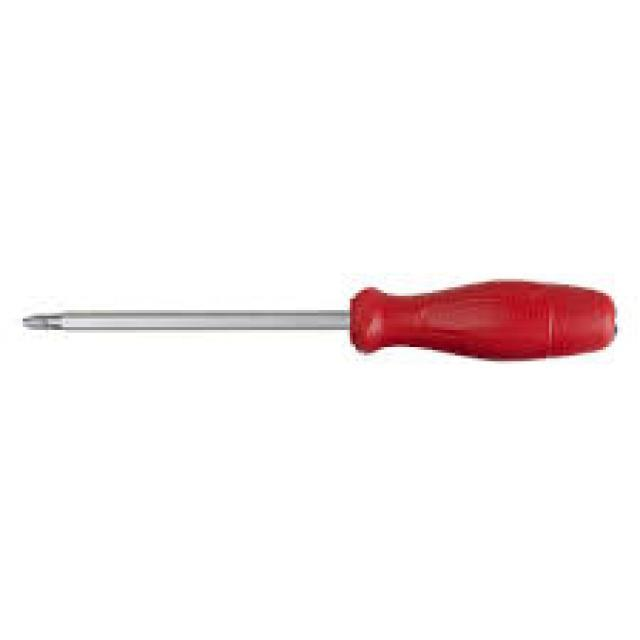screwdriver: (16, 273, 622, 364)
